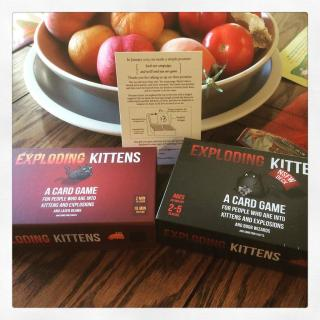tomato: (203, 23, 259, 74)
